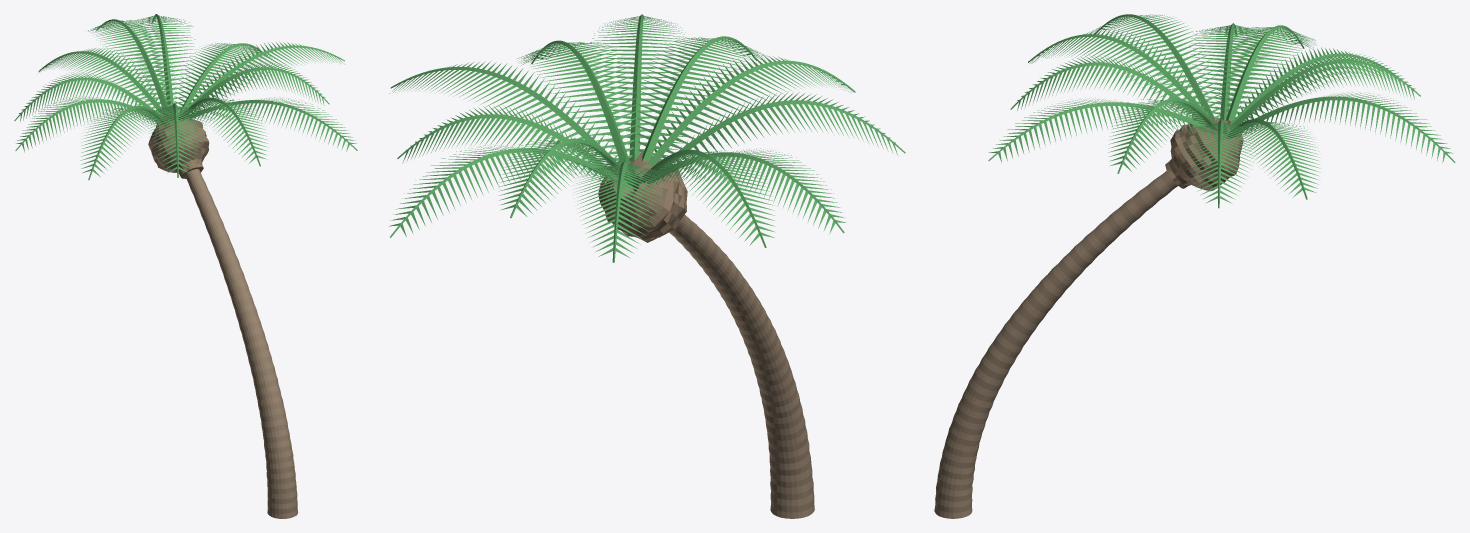
3 renders of one model, left to right at view 1: azimuth 30°, elevation 25°; view 2: azimuth 150°, elevation 25°; view 3: azimuth 270°, elevation 25°, orthographic. The views are drawn at different scales.
Visible parts, largest first — view 1: fronds, trunk, crown_base; view 2: fronds, trunk, crown_base; view 3: fronds, trunk, crown_base.
Part boxes in pixels (x1,y1,x2,y2): fronds: (14, 14, 357, 180); trunk: (185, 169, 297, 518); crown_base: (148, 113, 209, 178); fronds: (389, 14, 905, 262); trunk: (669, 214, 814, 518); crown_base: (598, 152, 687, 242); fronds: (988, 14, 1455, 208); trunk: (934, 171, 1177, 518); crown_base: (1165, 117, 1243, 191).
Size of the model in its own units: 14.82 by 16.26 by 16.95.
